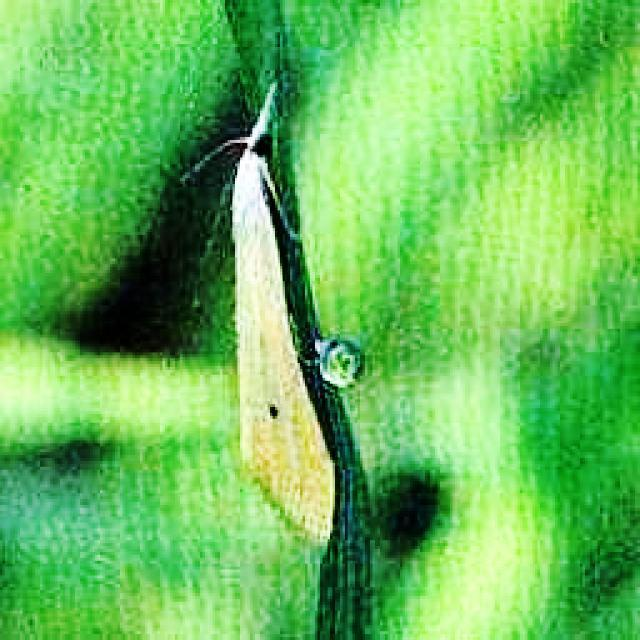stem-borer: (179, 84, 339, 544)
